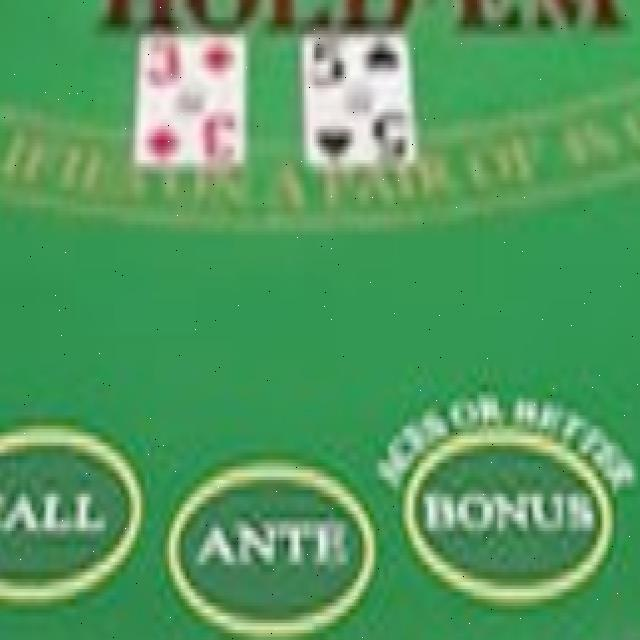Card-3: (136, 35, 246, 168)
Card-5: (305, 32, 412, 170)
